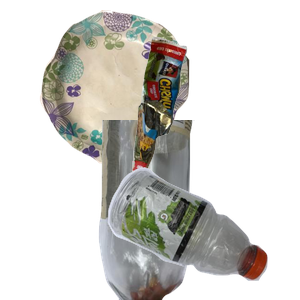glass: (96, 120, 283, 300)
paper: (37, 10, 219, 167)
plastic: (105, 165, 300, 300)
trash: (130, 34, 300, 203)
